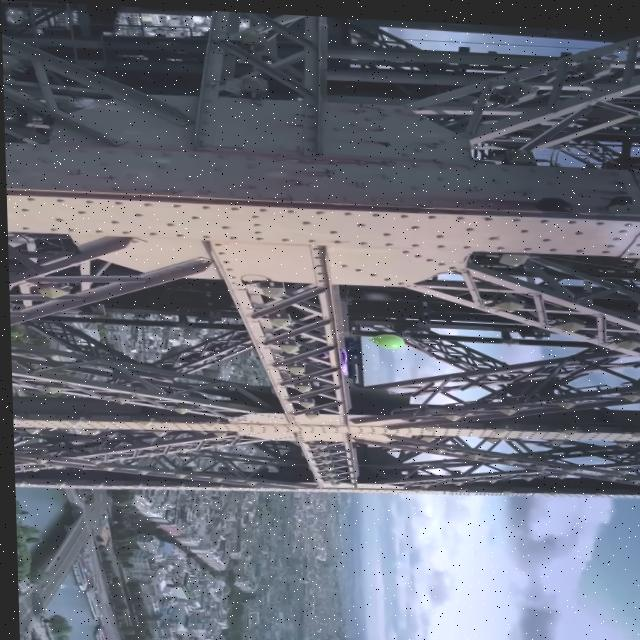balloon: (367, 327, 400, 346)
